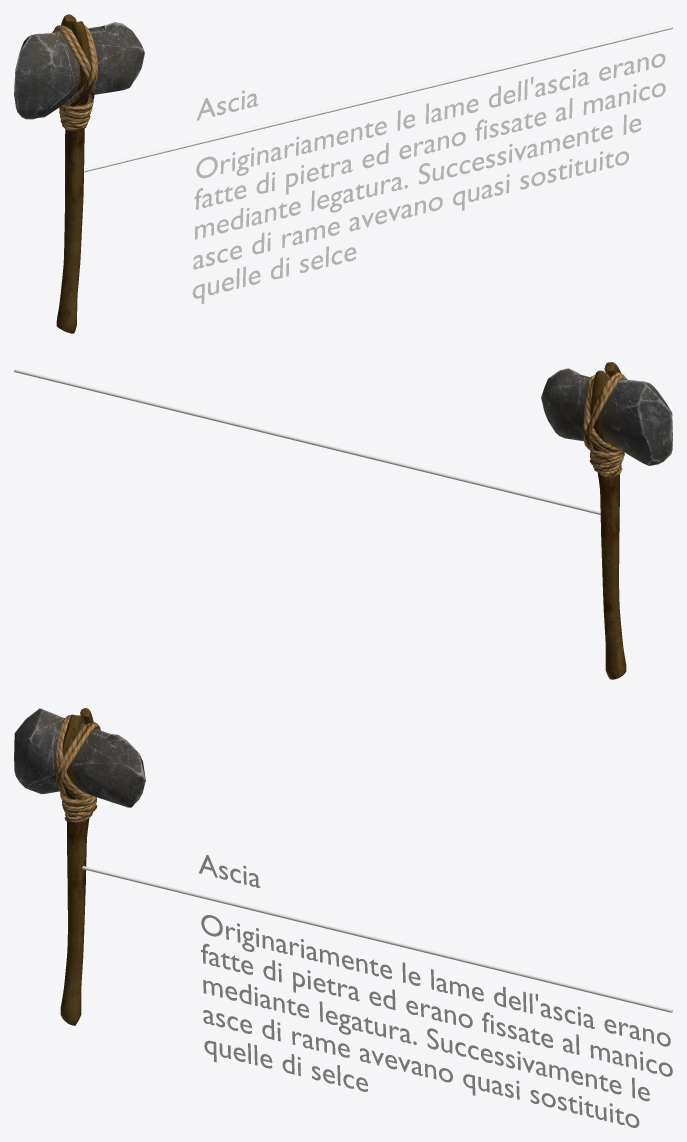
Rendered from ascia1.gltf.
The picture shows the model from 3 angles, top to bottom: view 1: azimuth 30°, elevation 25°; view 2: azimuth 150°, elevation 25°; view 3: azimuth 330°, elevation 25°; orthographic projection.
Parts seen in each view (by area): view 1: Text, Destral_low.001, riga; view 2: Destral_low.001, riga; view 3: Text, Destral_low.001, riga.
Boxes of the visible parts, bbox=[...] form: Text: bbox=[192, 53, 665, 303]; Destral_low.001: bbox=[14, 14, 144, 333]; riga: bbox=[84, 25, 672, 172]; Destral_low.001: bbox=[541, 362, 672, 679]; riga: bbox=[14, 369, 600, 514]; Text: bbox=[199, 855, 672, 1127]; Destral_low.001: bbox=[14, 708, 145, 1025]; riga: bbox=[82, 866, 672, 1012].
Bounding box in the file's own units: 226 × 105 × 24.39.
2 materials, 1 textured.
